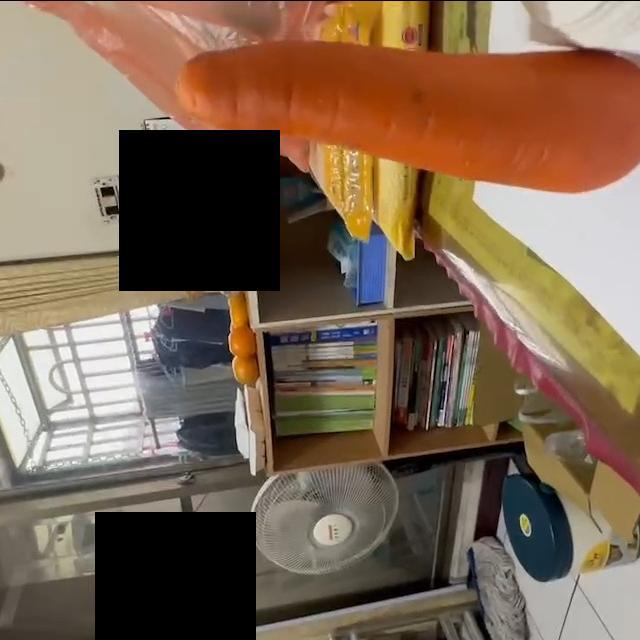carrot: (172, 42, 640, 194)
